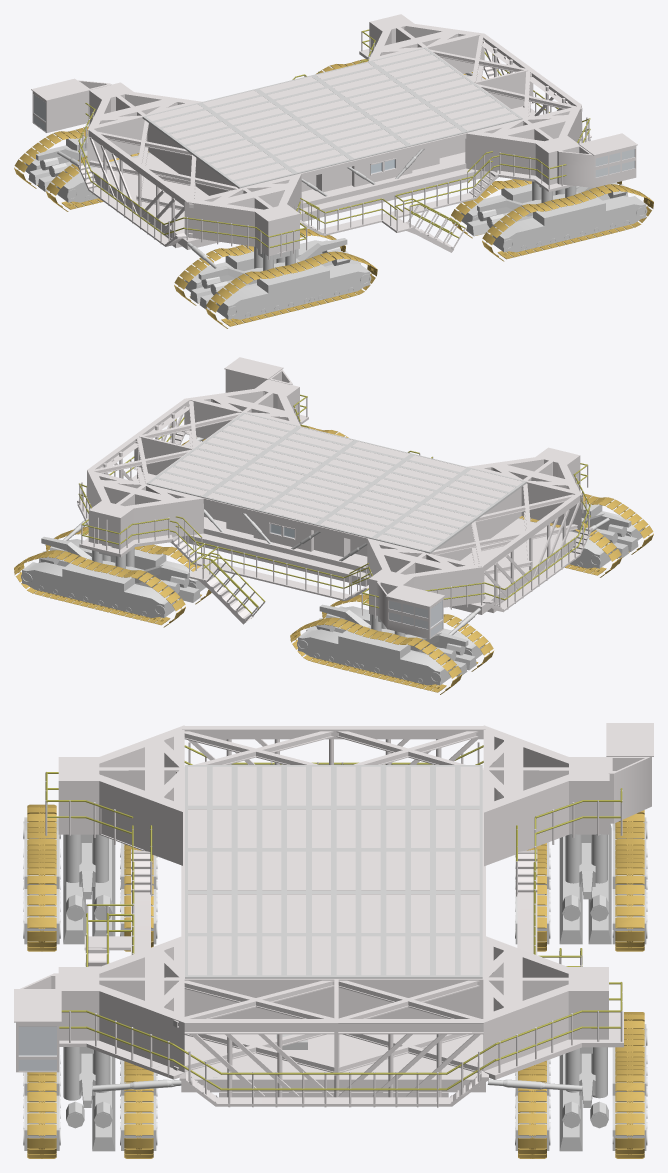
Rendered from space-crawler.glb.
The picture shows the model from 3 angles, top to bottom: view 1: azimuth 30°, elevation 25°; view 2: azimuth 150°, elevation 25°; view 3: azimuth 270°, elevation 25°; orthographic projection. The views are drawn at different scales.
Visible parts, largest first — view 1: polySurface1; view 2: polySurface1; view 3: polySurface1.
Part boxes in pixels (x1,y1,x2,y2): polySurface1: [14, 14, 653, 328]; polySurface1: [14, 357, 653, 694]; polySurface1: [14, 723, 653, 1158].
Size of the model in its own units: 8.77 by 1.7 by 7.2.
Materials: 2 (2 with a texture image).
